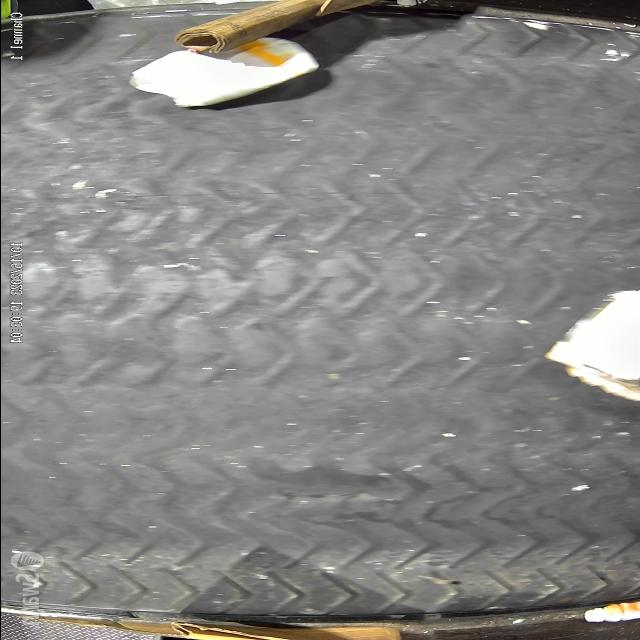milk_jug: (126, 34, 316, 110)
